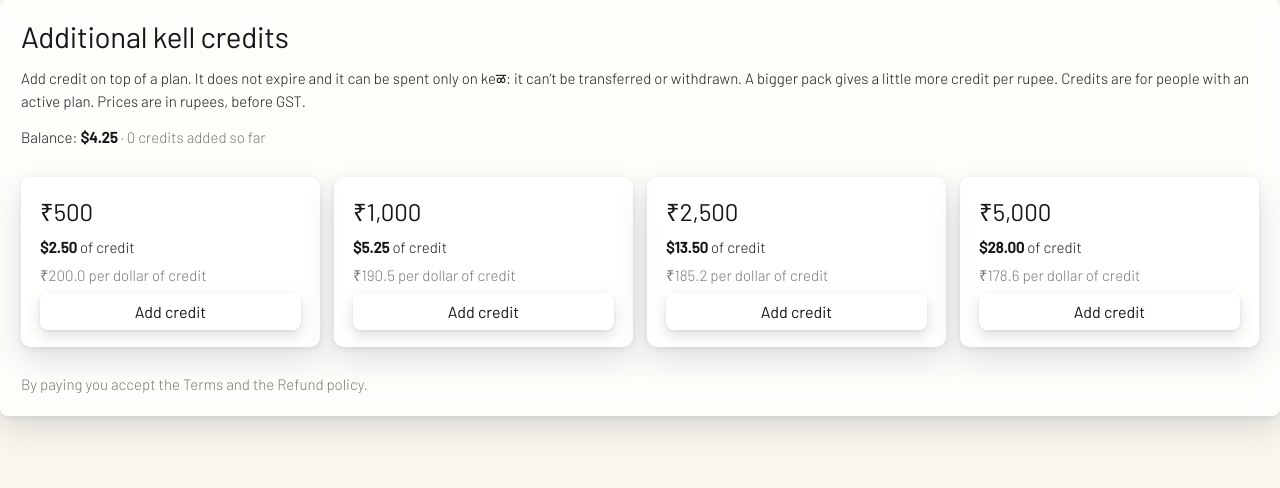
Scenario: buying a pack › a failed payment says no credit was bought
Click the button "Add credit" below "200.0": [170, 311] box [40, 293, 301, 330]
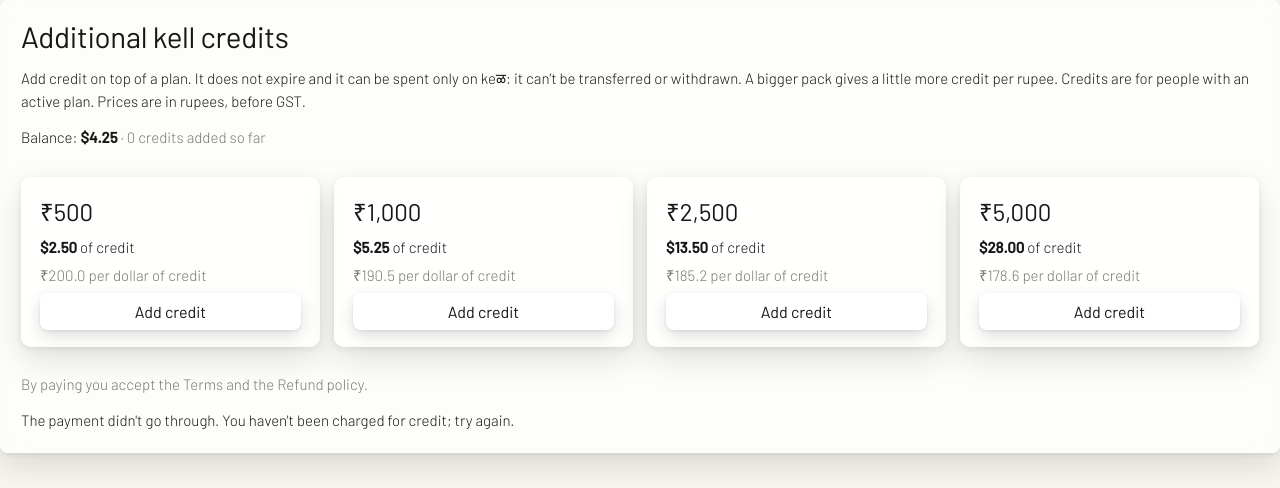
Now the text "didn't go through" is shown, box [21, 411, 514, 429]
